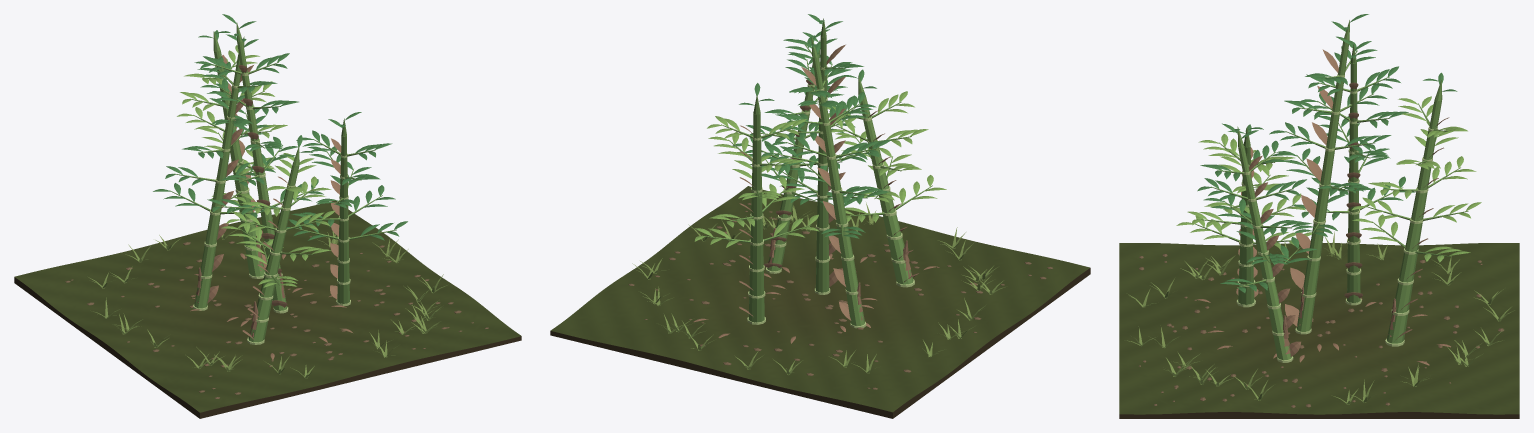
The model's file is bamboo.glb.
3 views of the same model, side by side, from view 1: azimuth 30°, elevation 25°; view 2: azimuth 150°, elevation 25°; view 3: azimuth 270°, elevation 25° (orthographic). The views are drawn at different scales.
Visible parts, largest first — view 1: Static_mesh; view 2: Static_mesh; view 3: Static_mesh, BambooInternode.008_mesh, BambooInternode.033_mesh, BambooInternode.032_mesh, BambooInternode.009_mesh, BambooInternode.010_mesh, BambooInternode.011_mesh, BambooInternode.034_mesh, BambooInternode.035_mesh, BambooInternode_mesh, BambooInternode.012_mesh, BambooInternode.036_mesh.
Boxes of the visible parts, x1,y1,x2,y2 form: Static_mesh: [14, 200, 521, 418]; Static_mesh: [550, 186, 1090, 418]; Static_mesh: [1119, 243, 1519, 418]; BambooInternode.008_mesh: [1385, 313, 1407, 346]; BambooInternode.033_mesh: [1301, 260, 1320, 297]; BambooInternode.032_mesh: [1295, 297, 1315, 334]; BambooInternode.009_mesh: [1391, 283, 1412, 315]; BambooInternode.010_mesh: [1397, 252, 1417, 285]; BambooInternode.011_mesh: [1403, 222, 1422, 254]; BambooInternode.034_mesh: [1307, 223, 1324, 261]; BambooInternode.035_mesh: [1313, 187, 1329, 224]; BambooInternode_mesh: [1345, 274, 1361, 305]; BambooInternode.012_mesh: [1410, 191, 1427, 223]; BambooInternode.036_mesh: [1319, 150, 1334, 186].
Bounding box in the file's own units: 3.5 × 2.98 × 3.5.
